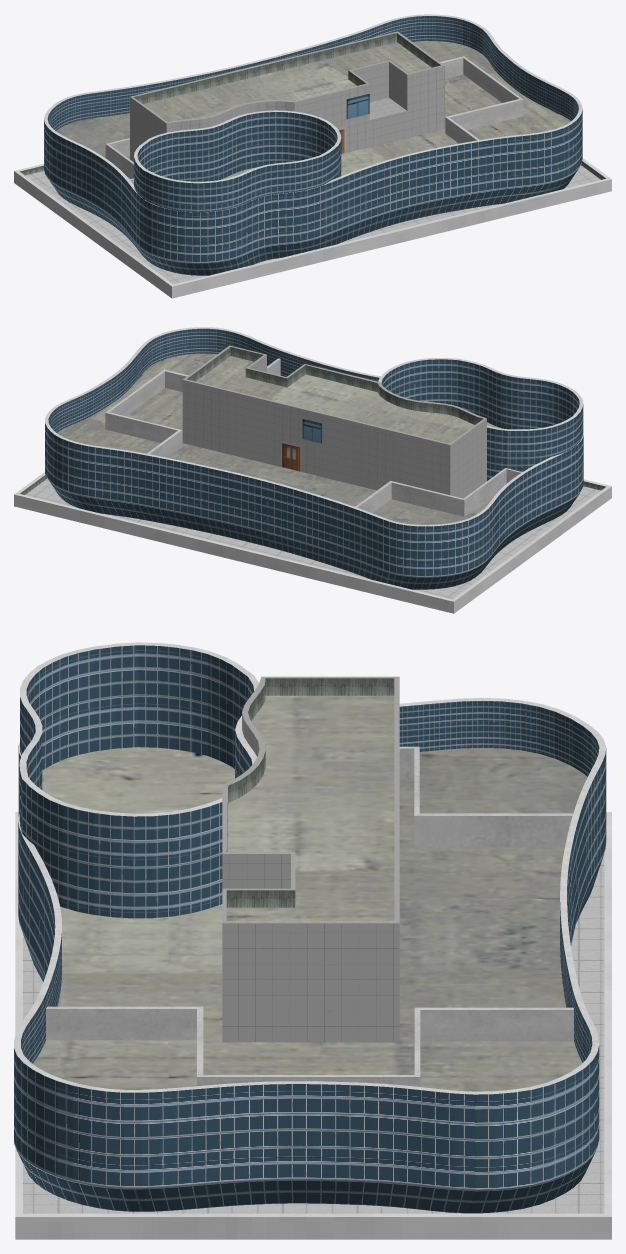
File: top copy.glb
3 views of the same model, one above another, from view 1: azimuth 30°, elevation 25°; view 2: azimuth 150°, elevation 25°; view 3: azimuth 270°, elevation 25° (orthographic). The views are drawn at different scales.
Parts seen in each view (by area): view 1: ding.001; view 2: ding.001; view 3: ding.001.
Part boxes in pixels (left/top/right/bottom): ding.001: left=14, top=14, right=611, bottom=298; ding.001: left=14, top=327, right=611, bottom=613; ding.001: left=14, top=642, right=611, bottom=1239.
Bounding box in the file's own units: 55.65 × 13.64 × 34.71.
11 materials, 11 textured.
